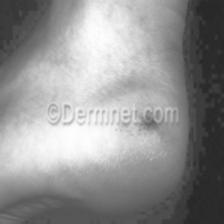Toxin: (142, 116, 162, 138)
